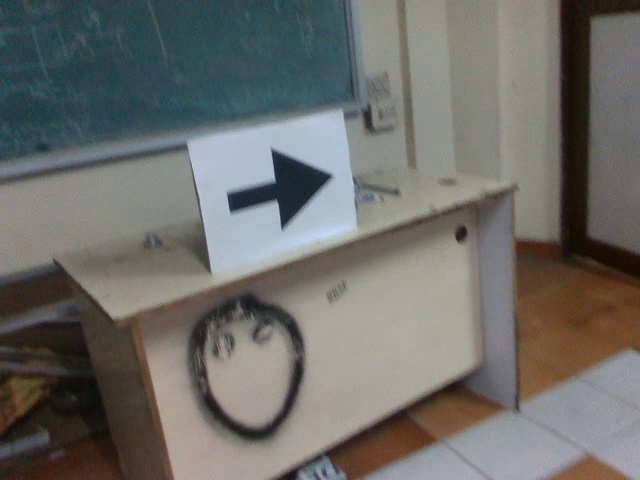Right: (223, 145, 334, 232)
